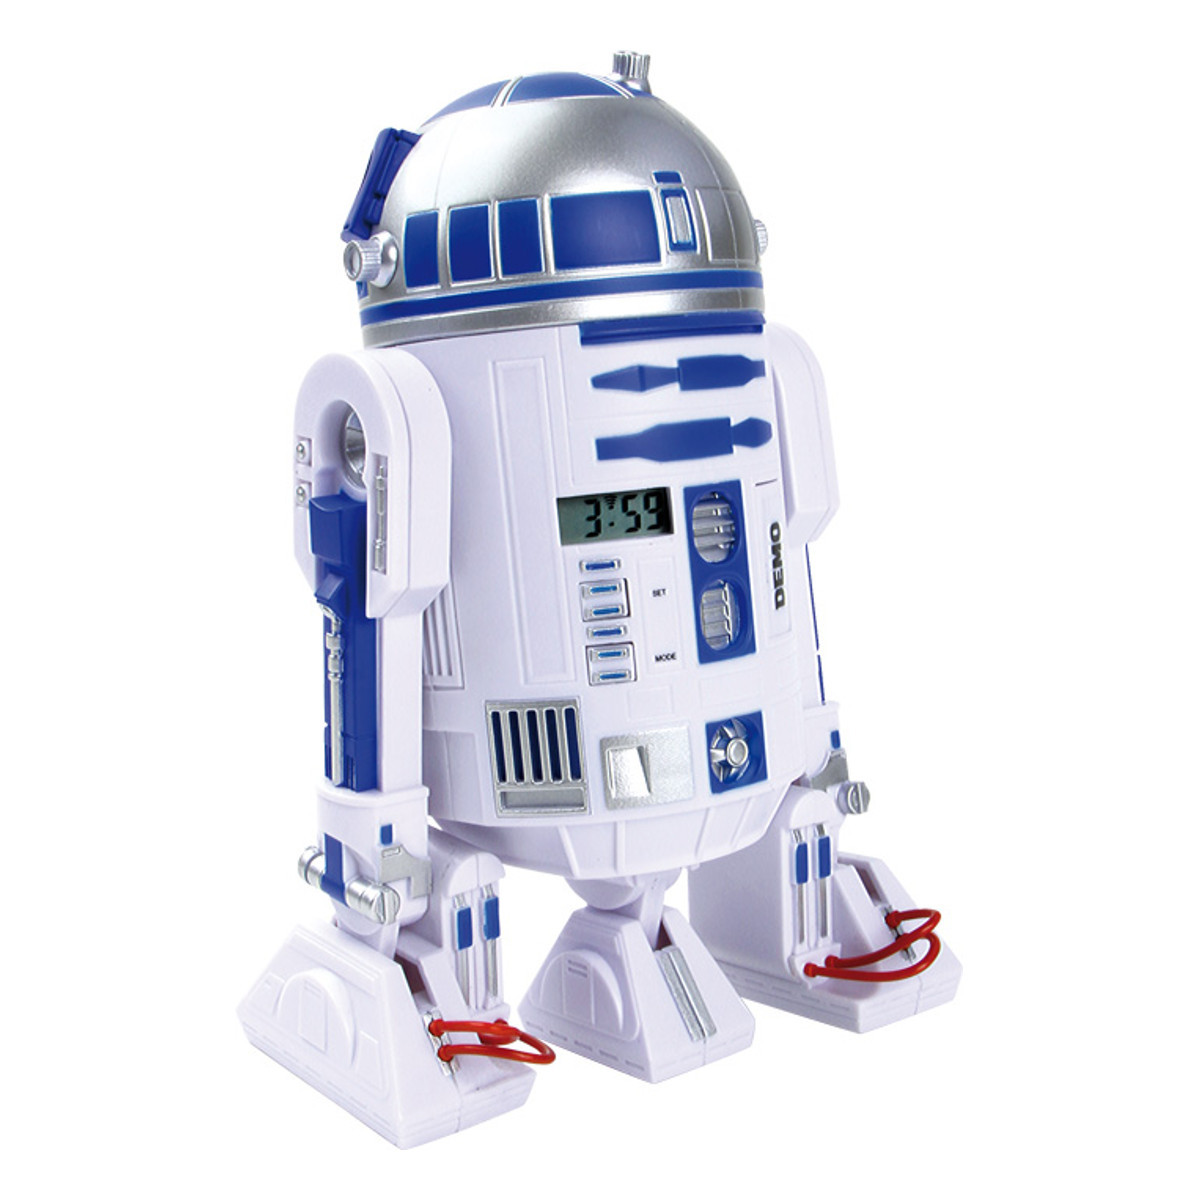r2d2: (262, 51, 964, 1123)
